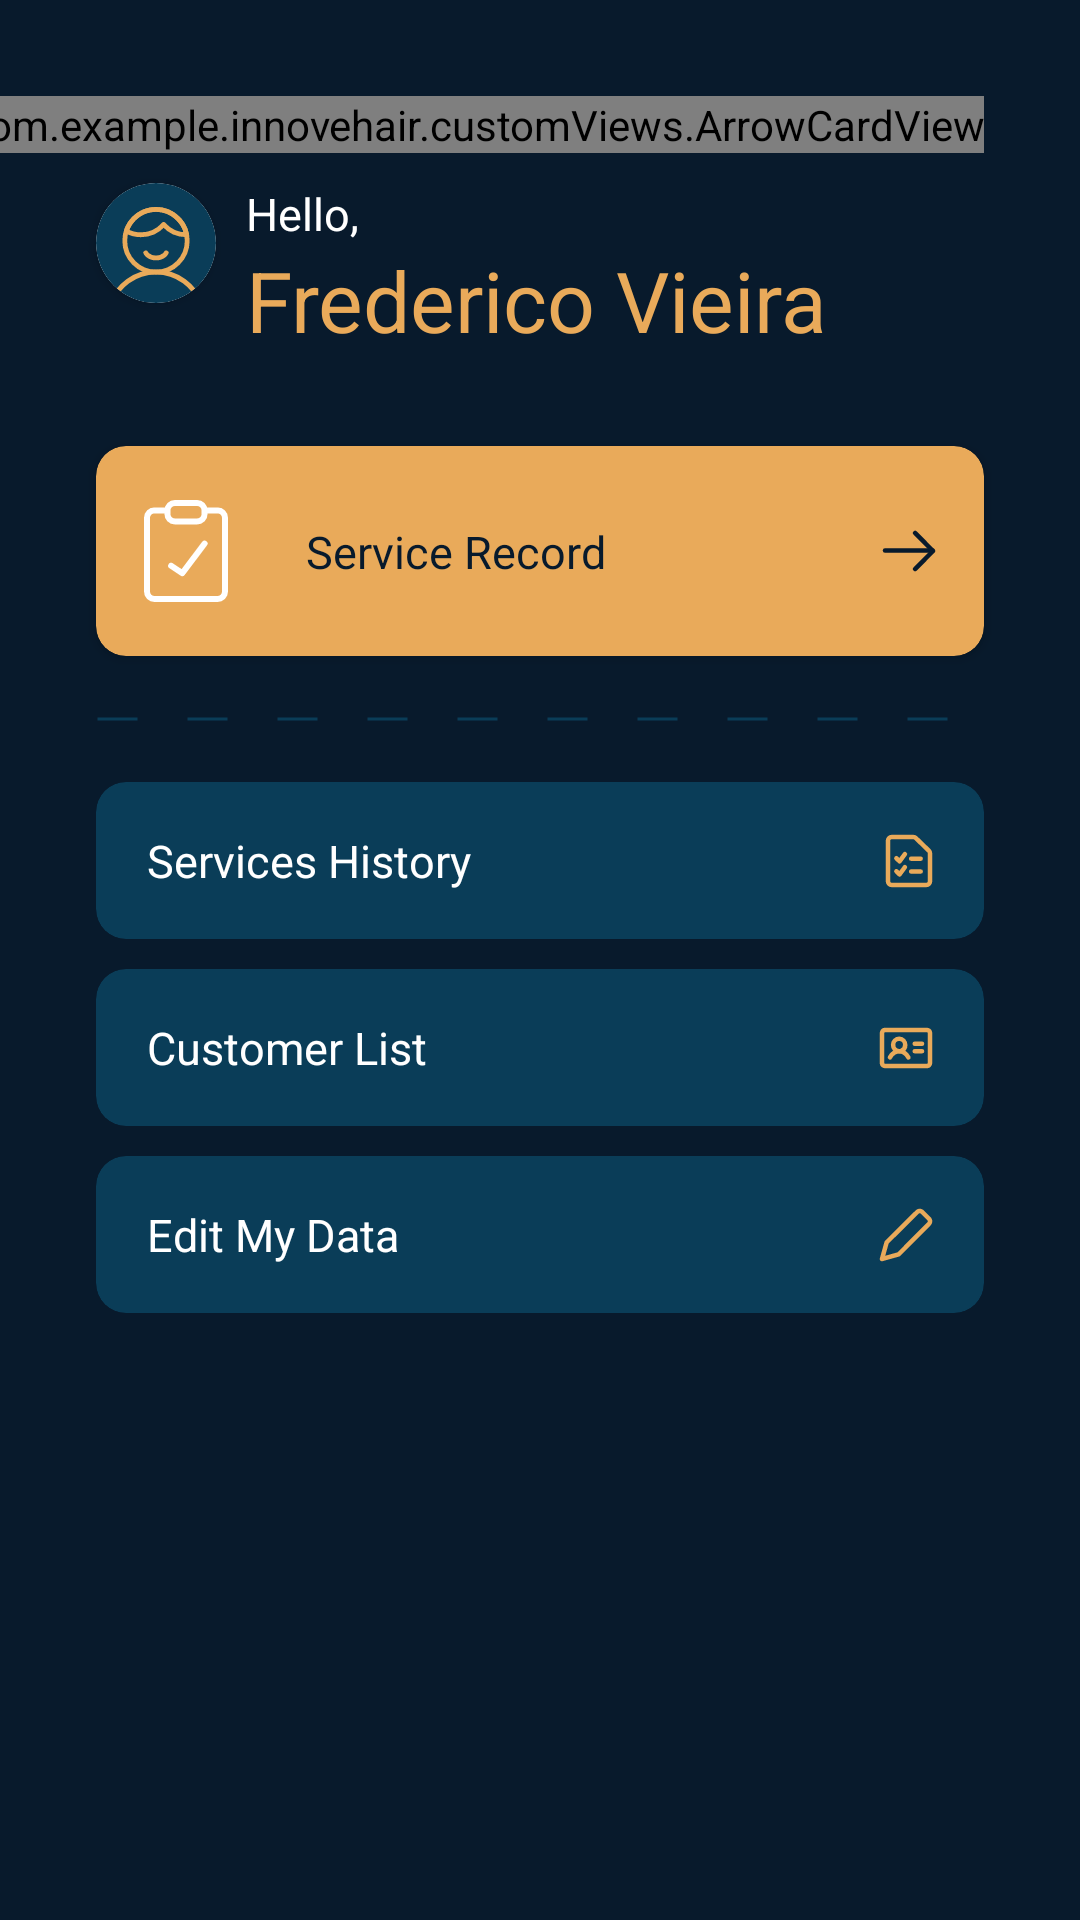

Where to tap for icons on this 1080px x 1920px app screen, as point (x, y):
arrow right: point (909, 551)
edit: point (906, 1235)
profile: point (156, 243)
user card: point (906, 1048)
